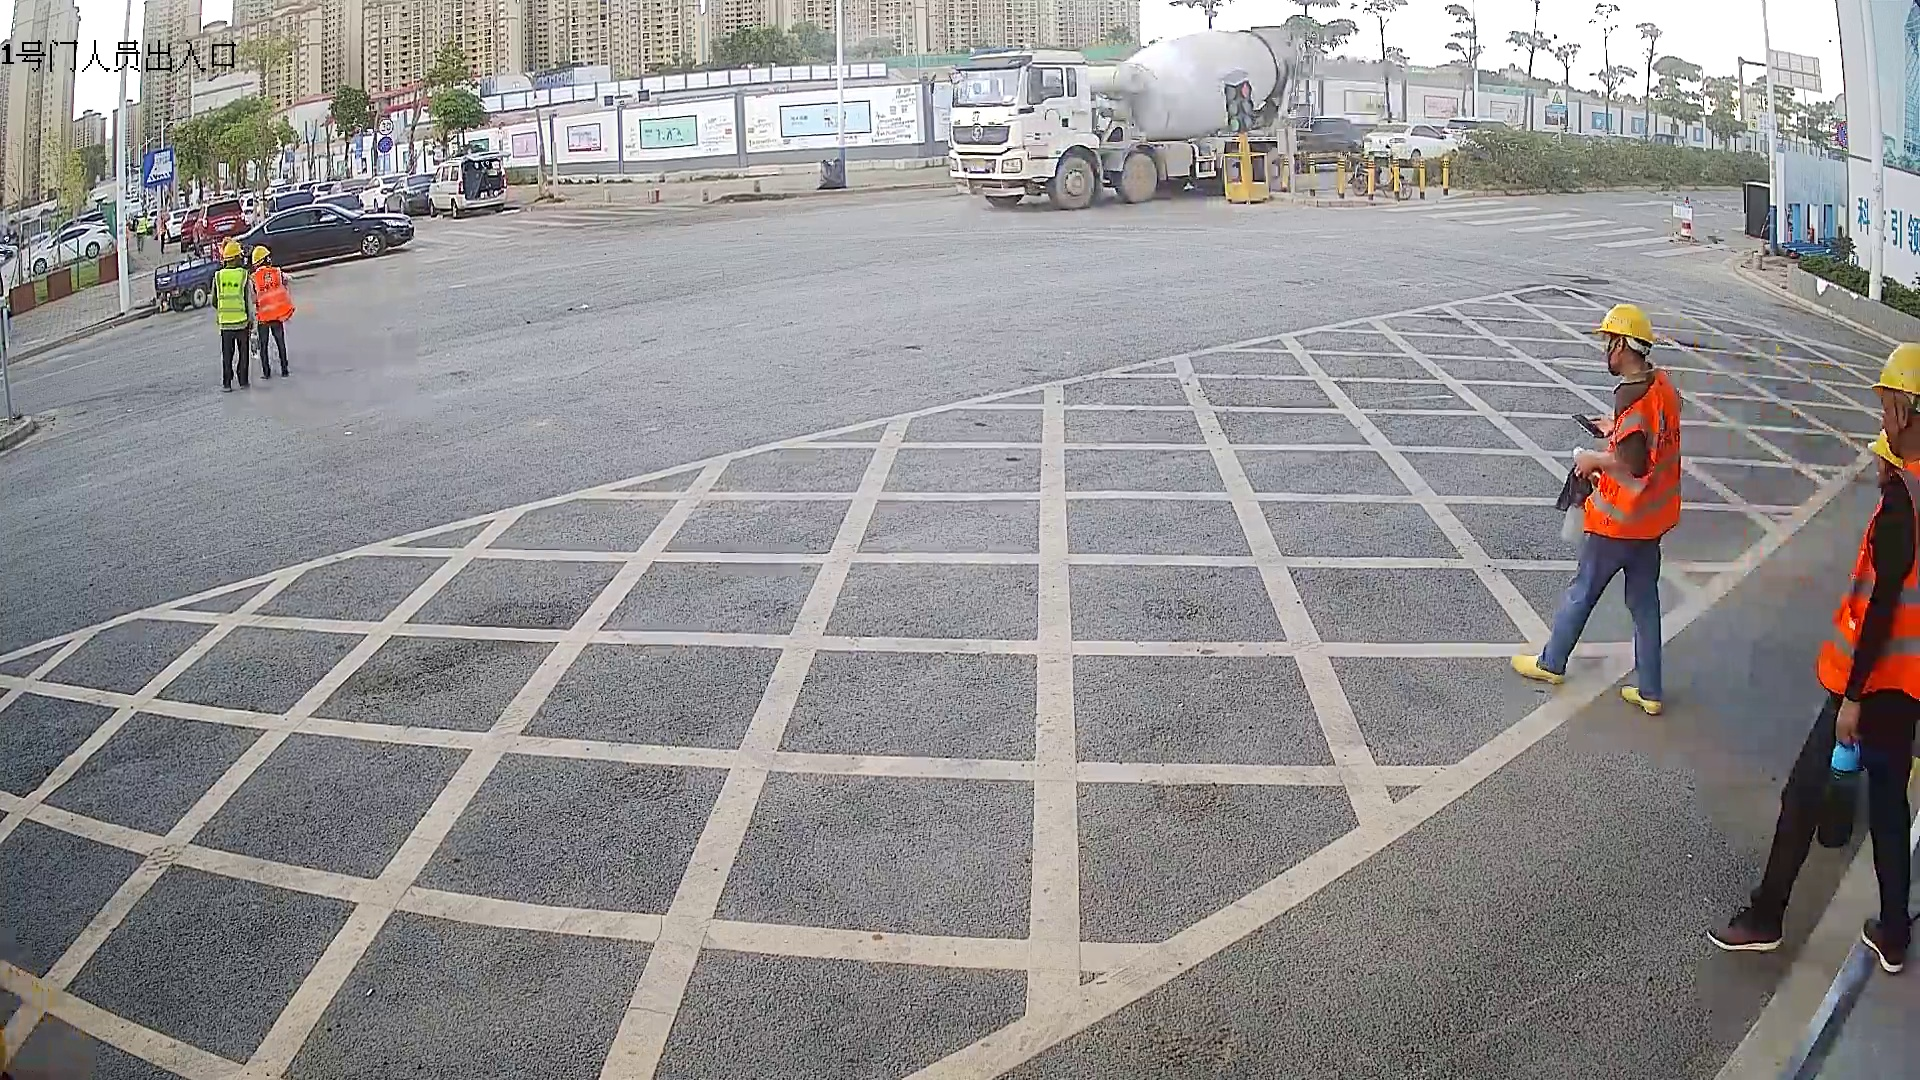person: (1701, 340, 1920, 976), (1507, 302, 1684, 720), (209, 239, 254, 394), (248, 243, 296, 379)
reflective_vest: (1813, 459, 1920, 703), (1580, 367, 1683, 541), (249, 265, 297, 324), (213, 267, 248, 326)
safety_helmet: (1869, 340, 1920, 464), (1595, 301, 1656, 376), (222, 239, 246, 267), (250, 243, 273, 269)
